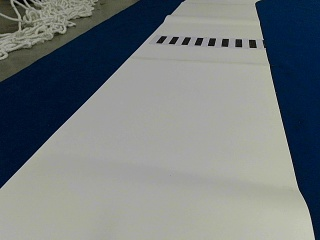crosswalk: (155, 34, 258, 48)
